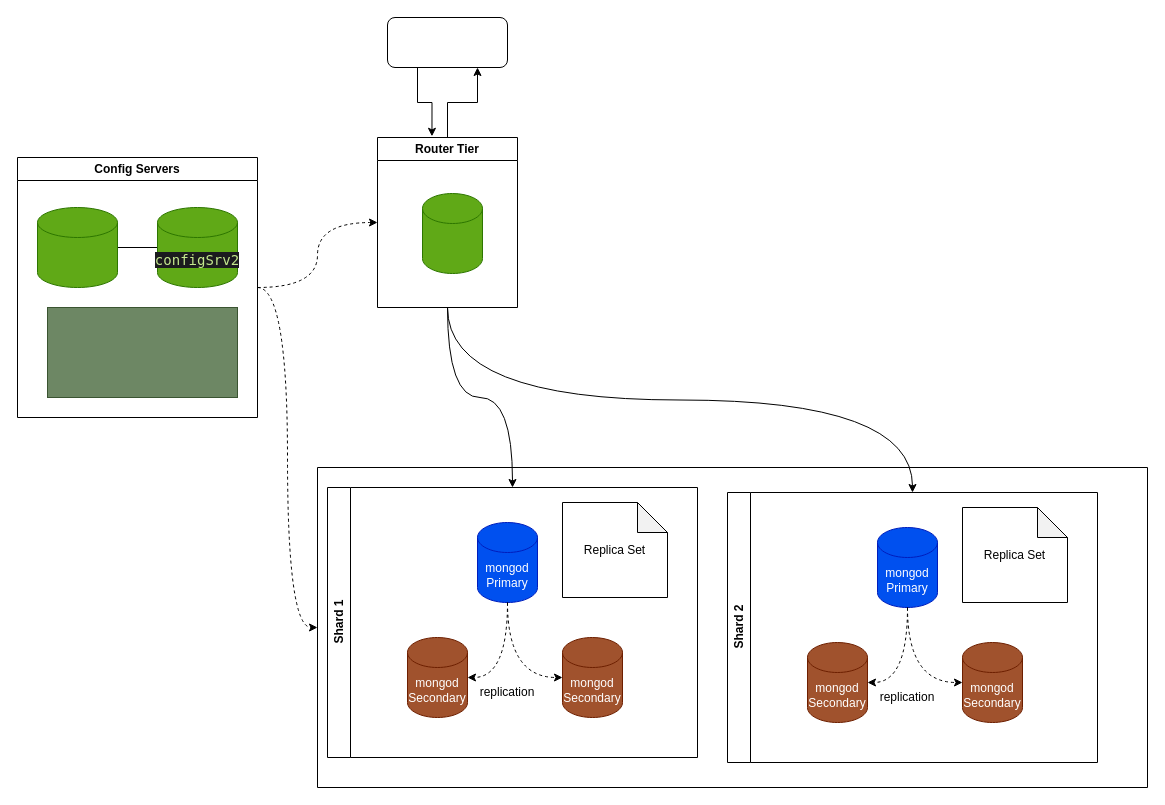
Some shapes in this 1165 by 805 pixel diagram are drawn without their labels. The centre of each missing label's shape, as x and y in pixels:
configSrv1: point 77,247
hash(name) ==> Shard 1 hash(name) ==> Shard 2: point 142,352
mongos: point 452,233
pymongo-api: point 447,42
